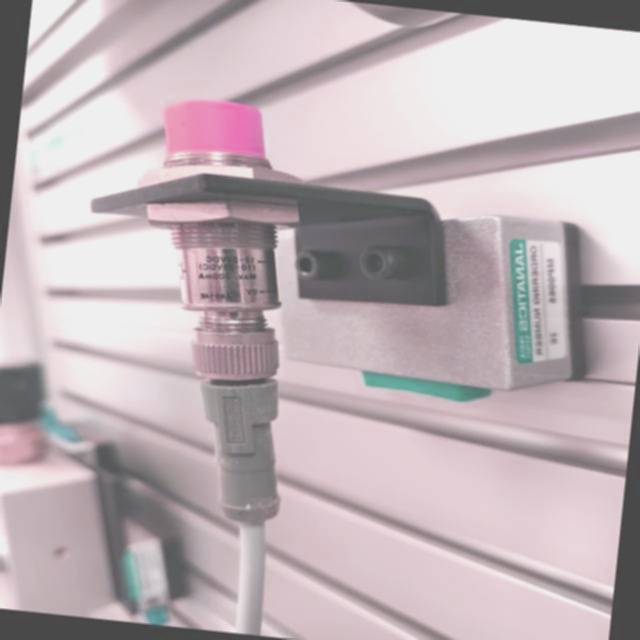inductive sensor: (54, 75, 600, 558)
